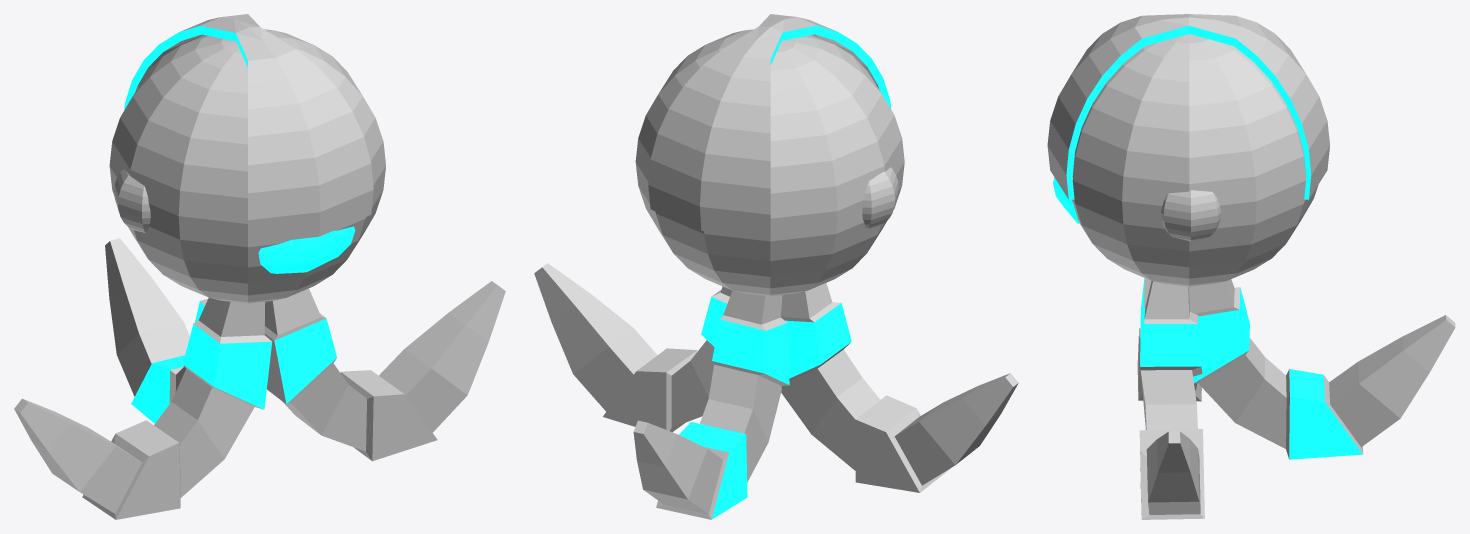
The model's file is Enemy 2 model_Shannon_textured.fbx.
3 renders of one model, left to right at view 1: azimuth 30°, elevation 25°; view 2: azimuth 150°, elevation 25°; view 3: azimuth 270°, elevation 25°, orthographic. The views are drawn at different scales.
Visible parts, largest first — view 1: hoofd, bovendeel, arm 2, arm 1, arm 1.001, arm 3, arm 2.001, Enemy 2.001, arm 3.001, orb zijkant 2; view 2: hoofd, bovendeel, arm 1, arm 2, arm 3, arm 1.001, arm 3.001, orb zijkant 2, arm 2.001; view 3: hoofd, arm 3, bovendeel, arm 2, arm 3.001, orb zijkant, arm 2.001.
Boxes of the visible parts, <box> form: hoofd: <box>109,29,385,303</box>; bovendeel: <box>124,14,373,244</box>; arm 2: <box>264,281,505,461</box>; arm 1: <box>14,298,271,519</box>; arm 1.001: <box>115,324,272,519</box>; arm 3: <box>105,238,207,403</box>; arm 2.001: <box>274,318,336,403</box>; Enemy 2.001: <box>258,226,355,273</box>; arm 3.001: <box>131,301,204,423</box>; orb zijkant 2: <box>114,169,150,232</box>; hoofd: <box>635,29,904,296</box>; bovendeel: <box>648,14,891,238</box>; arm 1: <box>780,283,1018,492</box>; arm 2: <box>534,263,732,432</box>; arm 3: <box>633,290,788,519</box>; arm 1.001: <box>785,303,919,492</box>; arm 3.001: <box>679,319,789,519</box>; orb zijkant 2: <box>862,167,898,228</box>; arm 2.001: <box>701,297,727,346</box>; hoofd: <box>1071,34,1318,286</box>; arm 3: <box>1189,279,1455,459</box>; bovendeel: <box>1047,14,1329,199</box>; arm 2: <box>1139,281,1204,519</box>; arm 3.001: <box>1193,287,1362,459</box>; orb zijkant: <box>1161,190,1220,241</box>; arm 2.001: <box>1140,316,1202,371</box>.
Size of the model in its own units: 409 by 351 by 303.
